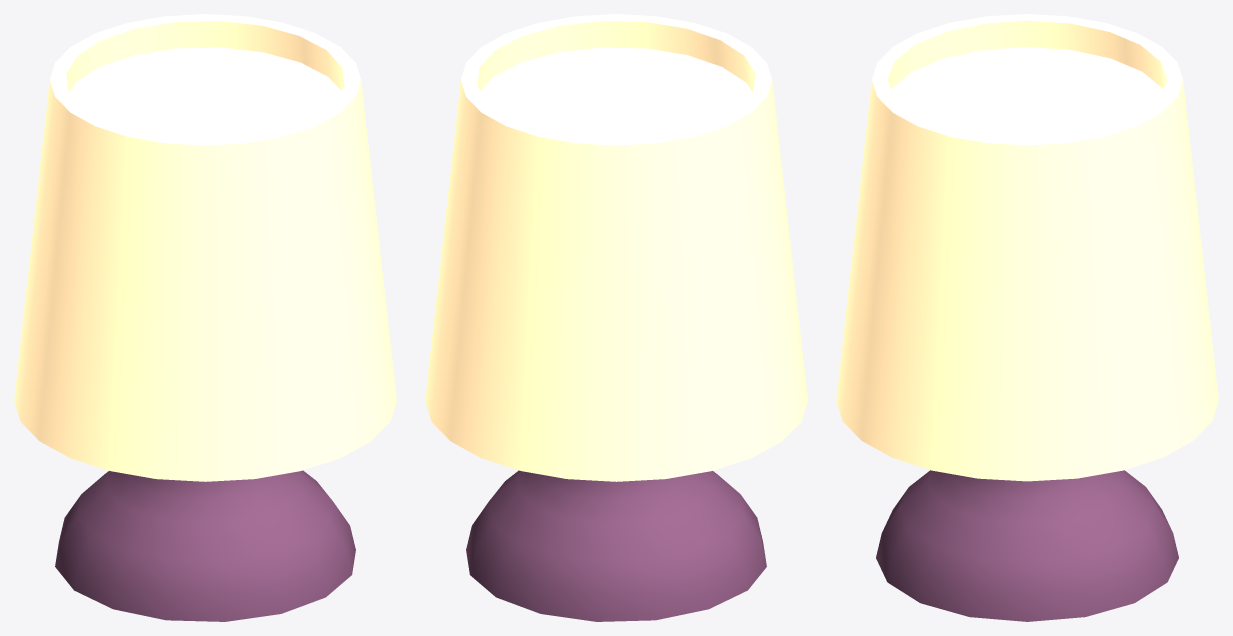
The model's file is Lamp.fbx.
3 views of the same model, side by side, from view 1: azimuth 30°, elevation 25°; view 2: azimuth 150°, elevation 25°; view 3: azimuth 270°, elevation 25° (orthographic).
Visible parts, largest first — view 1: Lamp; view 2: Lamp; view 3: Lamp.
Part boxes in pixels (x1,y1,x2,y2): Lamp: [14, 14, 396, 621]; Lamp: [425, 14, 807, 621]; Lamp: [836, 14, 1218, 621].
Bounding box in the file's own units: 0.2513 × 0.3466 × 0.2513.
